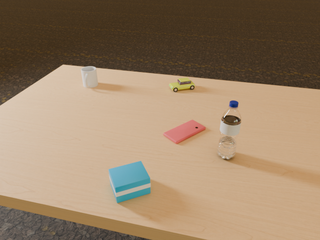bottle: (217, 101, 241, 160)
box: (109, 161, 151, 203)
cup: (81, 67, 98, 88)
phone: (163, 120, 206, 144)
toy_car: (169, 78, 195, 92)
